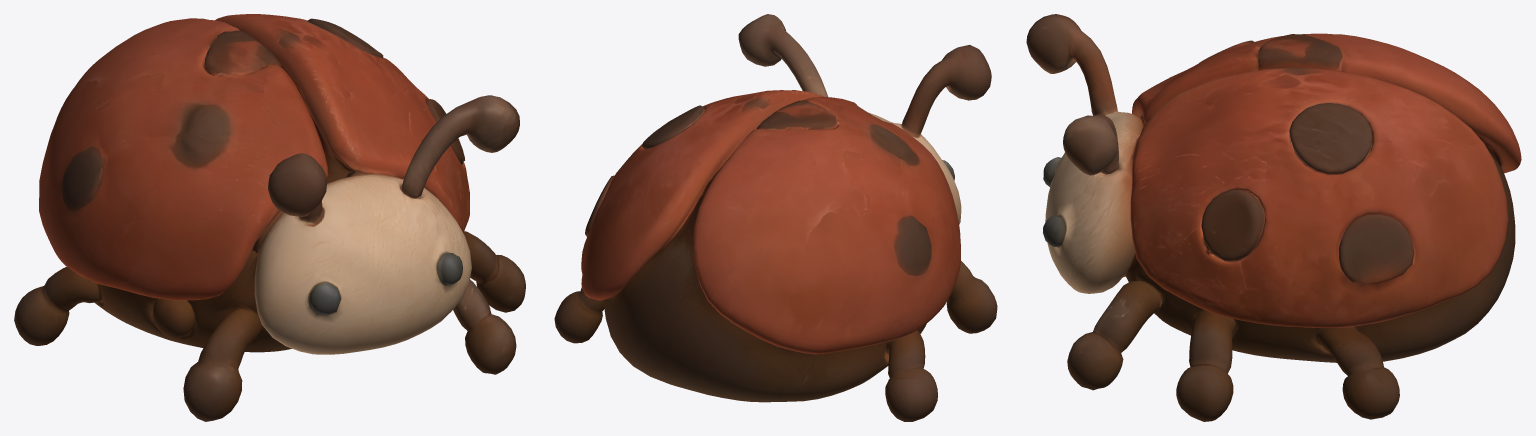
Rendered from army_beetle_pbr.glb.
The picture shows the model from 3 angles, left to right: view 1: azimuth 30°, elevation 25°; view 2: azimuth 150°, elevation 25°; view 3: azimuth 270°, elevation 25°; orthographic projection. The views are drawn at different scales.
Parts seen in each view (by area): view 1: model; view 2: model; view 3: model.
Boxes of the visible parts, x1,y1,x2,y2 form: model: (14,14,525,421); model: (554,14,997,421); model: (1026,14,1521,421).
Bounding box in the file's own units: 1.82 × 1.15 × 1.9.
Materials: 1 (1 with a texture image).
